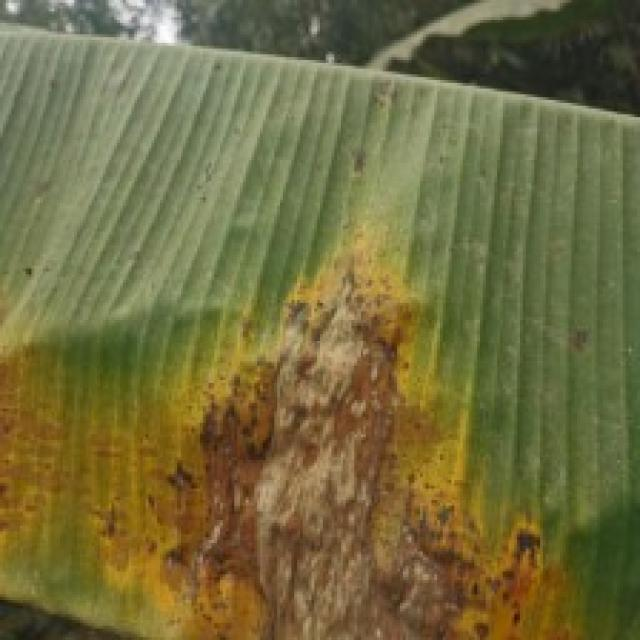Downey_mildrew: (0, 168, 591, 640)
